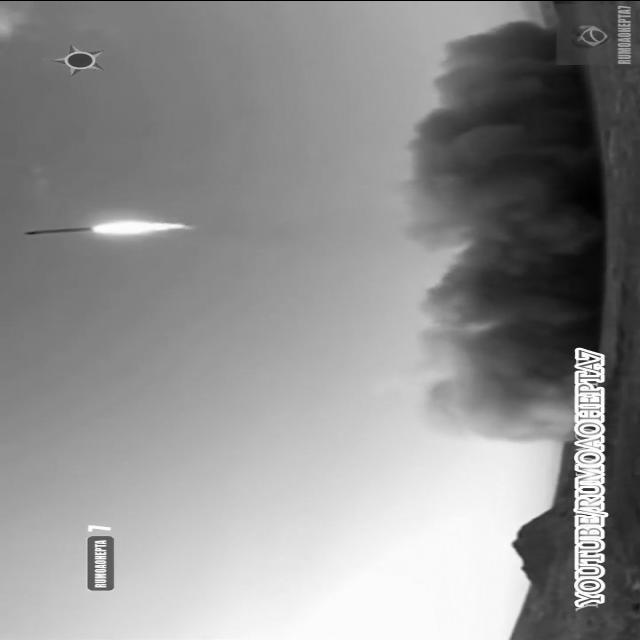missile: (18, 224, 98, 236)
